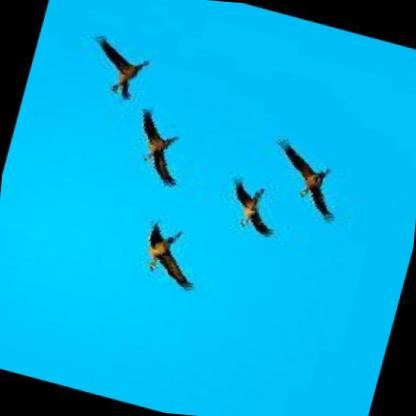bird: (253, 132, 361, 226), (109, 100, 207, 194), (121, 206, 221, 297), (73, 25, 159, 109), (207, 166, 292, 241)
